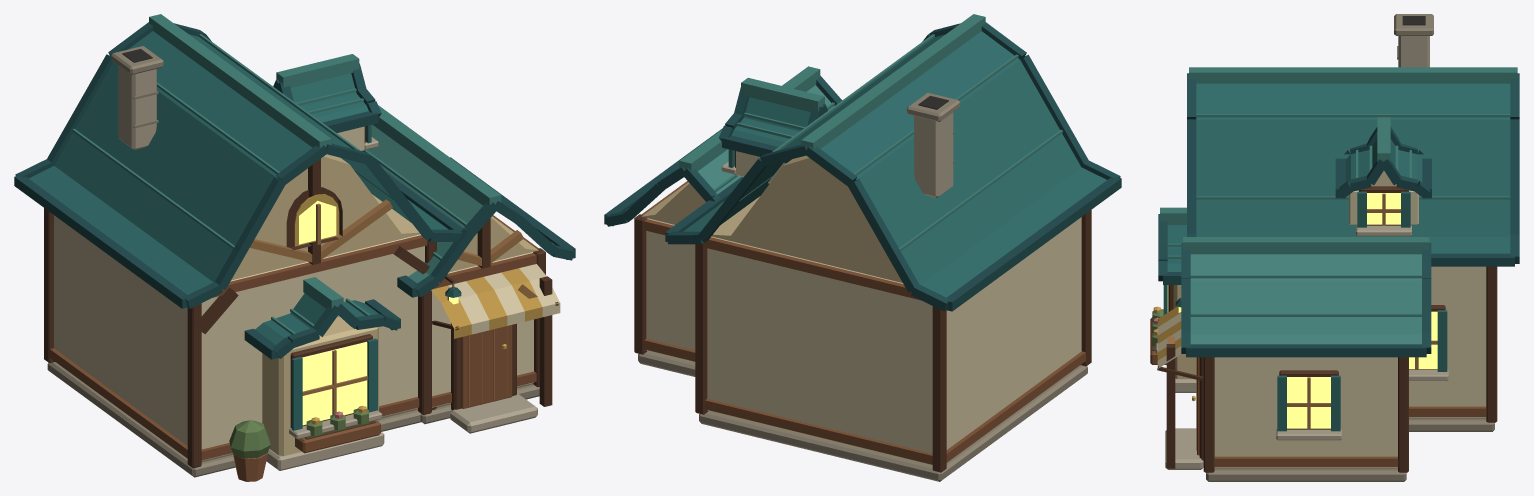
The model's file is house-b.glb.
The picture shows the model from 3 angles, left to right: view 1: azimuth 30°, elevation 25°; view 2: azimuth 150°, elevation 25°; view 3: azimuth 270°, elevation 25°; orthographic projection. The views are drawn at different scales.
Parts seen in each view (by area): view 1: house-b; view 2: house-b; view 3: house-b.
Part boxes in pixels (bbox=[...]): house-b: bbox=[14, 14, 575, 481]; house-b: bbox=[604, 14, 1121, 481]; house-b: bbox=[1150, 14, 1519, 481].
Bounding box in the file's own units: 7.94 × 6.51 × 6.75.
